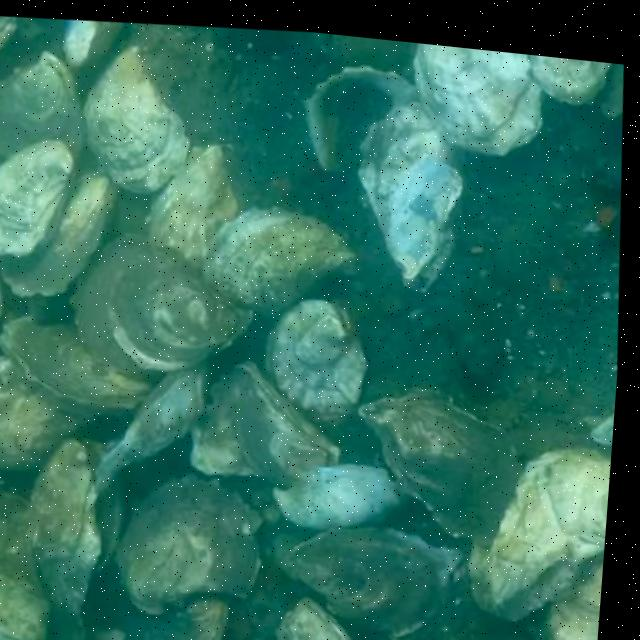Oyster-Closed: (293, 527, 459, 636), (124, 595, 229, 640)
Oyster-Indeterminate: (71, 235, 253, 377), (361, 395, 523, 546), (472, 447, 611, 619), (360, 101, 465, 288), (120, 475, 261, 613), (191, 363, 339, 485), (204, 208, 358, 316), (94, 355, 213, 494), (83, 45, 191, 193), (0, 167, 117, 297), (414, 44, 543, 155), (2, 315, 153, 409), (34, 440, 101, 640), (266, 300, 367, 421), (149, 146, 238, 272), (0, 360, 96, 470), (0, 56, 87, 156), (0, 140, 74, 257), (275, 465, 408, 530), (0, 489, 51, 640), (550, 552, 604, 640), (529, 55, 611, 101), (276, 598, 352, 640), (569, 554, 604, 611), (0, 16, 19, 52)
